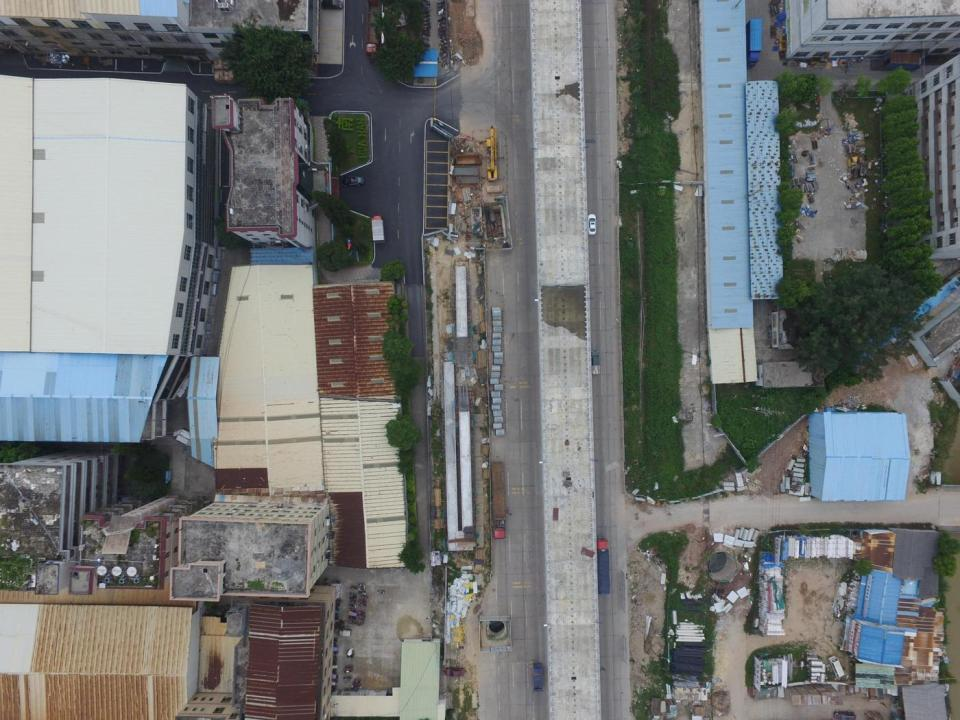car: (829, 655, 844, 678), (340, 175, 365, 188), (586, 213, 598, 236), (833, 709, 857, 720), (591, 350, 600, 376), (444, 667, 465, 678)
truck: (490, 460, 508, 540), (364, 0, 380, 64), (596, 536, 611, 595), (745, 18, 762, 68), (371, 214, 386, 244), (532, 662, 543, 694)
